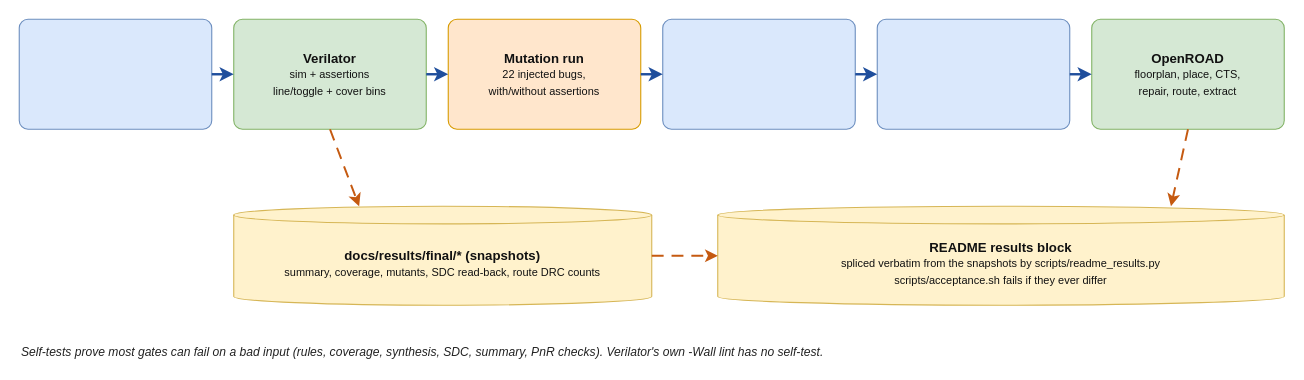
The diagram is 1304 pixels wide and 380 high, and some of its shapes have lost their labels. The centre of each missing label's shape, as x and y in pixels:
"OpenSTA SDC read-back checked setup/hold report" belongs at [973,73].
"RTL + checkers rtl/*.sv verif/*_checker.sv" belongs at [115,73].
"Yosys synth to Sky130 HD structural checks" belongs at [758,73].
